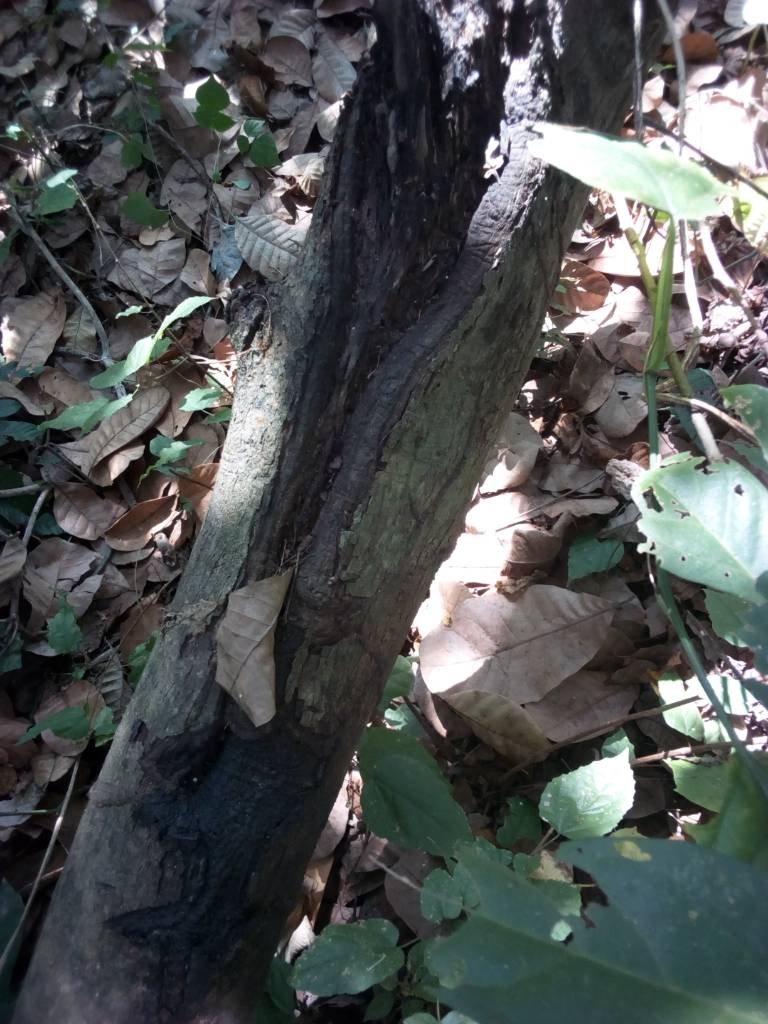Termites: (266, 169, 435, 553), (93, 713, 216, 983)
